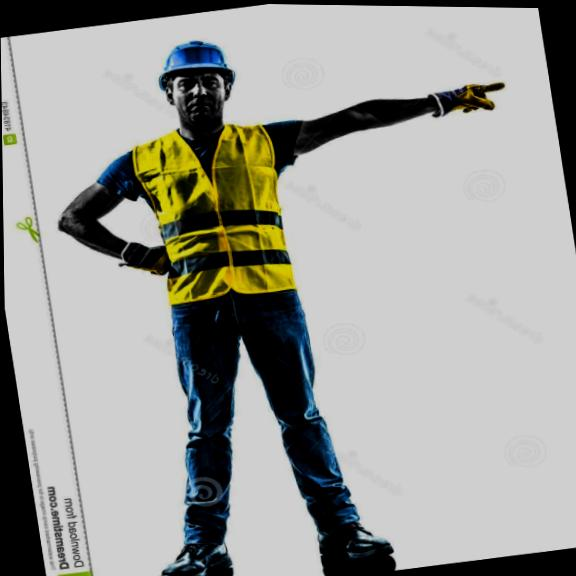safety_vest: (119, 114, 322, 331)
